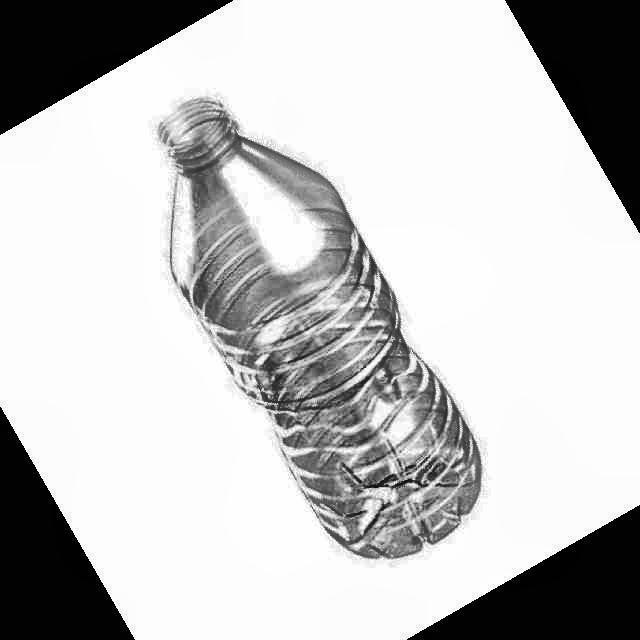plastic: (159, 99, 480, 557)
